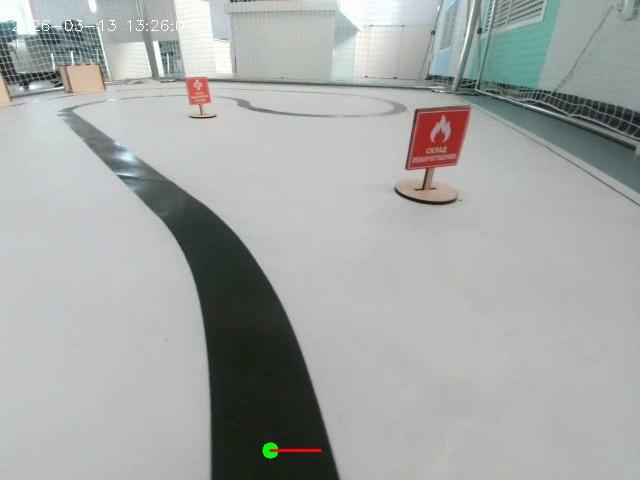fire: (399, 94, 476, 205)
medical: (177, 62, 222, 135)
